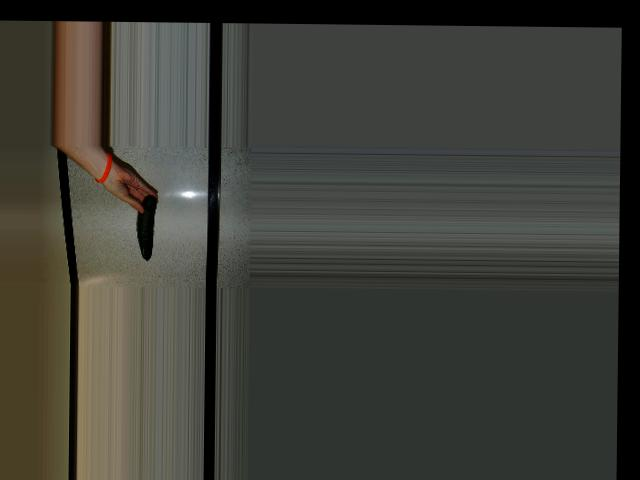cucumber: (137, 194, 157, 261)
